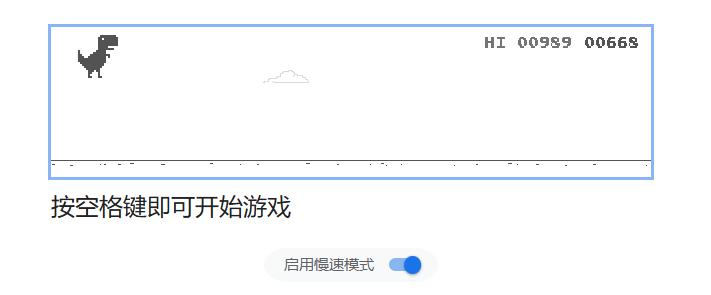dino: (76, 34, 118, 79)
